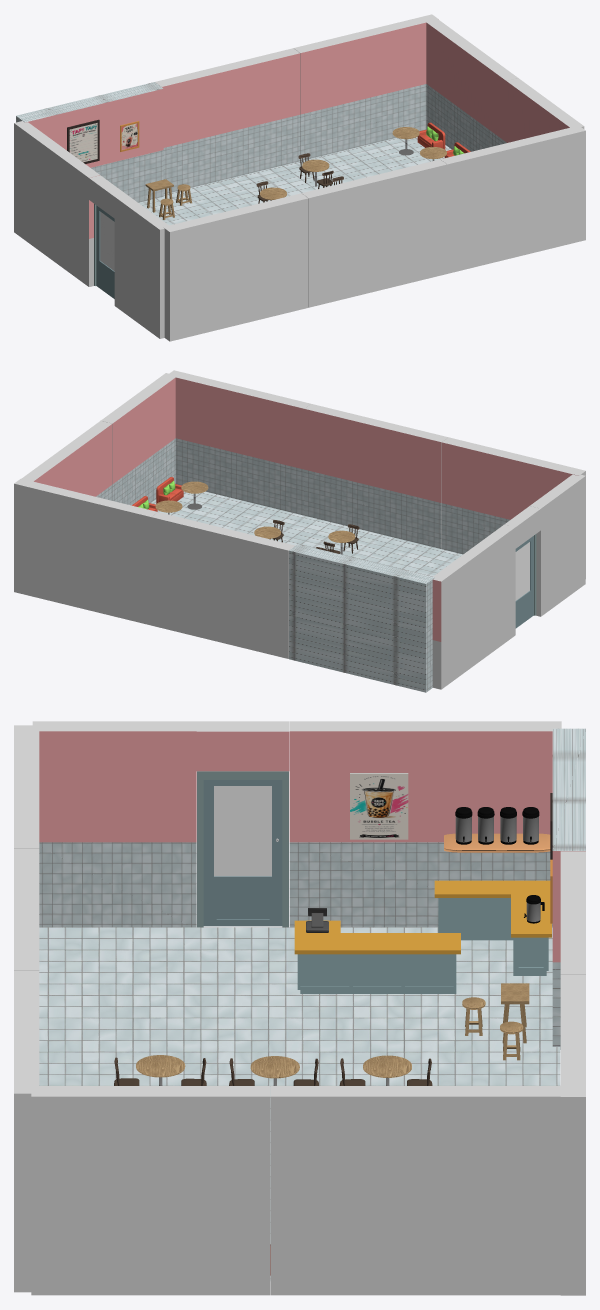
Rendered from TAPI_TAPI_Shop.min.glb.
The picture shows the model from 3 angles, top to bottom: view 1: azimuth 30°, elevation 25°; view 2: azimuth 150°, elevation 25°; view 3: azimuth 270°, elevation 25°; orthographic projection. The views are drawn at different scales.
Parts seen in each view (by area): view 1: Wall_08, Wall_07, Wall_03, Wall_02, Wall_04, Wall_10, Wall_05, Wall_01, Floor, Wall_09, Wall_06, Poster_Menu (+4 smaller); view 2: Wall_01, Wall_04, Wall_02, Wall_07, Wall_03, Wall_10, Wall_08, Floor, Wall_06, Wall_09, Wall_05, Wall_11 (+3 smaller); view 3: Floor, Wall_05, Wall_06, Wall_10, Wall_09, Counter_Side, Wall_04, Counter_Main, Wall_03, Door_Panel, Wall_01, Door_Glass (+11 smaller).
Part boxes in pixels (left/top/right/bottom): Wall_08: left=163, top=193, right=308, bottom=341; Wall_07: left=301, top=159, right=447, bottom=307; Wall_03: left=440, top=125, right=585, bottom=273; Wall_02: left=155, top=48, right=300, bottom=194; Wall_04: left=293, top=14, right=438, bottom=160; Wall_10: left=14, top=121, right=99, bottom=286; Wall_05: left=426, top=19, right=517, bottom=151; Wall_01: left=16, top=82, right=163, bottom=202; Floor: left=139, top=137, right=451, bottom=225; Wall_09: left=114, top=194, right=168, bottom=338; Wall_06: left=506, top=78, right=584, bottom=142; Poster_Menu: left=69, top=123, right=97, bottom=162; Wall_01: left=289, top=544, right=434, bottom=692; Wall_04: left=14, top=478, right=157, bottom=625; Wall_02: left=151, top=512, right=295, bottom=658; Wall_07: left=304, top=404, right=448, bottom=548; Wall_03: left=167, top=370, right=310, bottom=515; Wall_10: left=432, top=524, right=515, bottom=689; Wall_08: left=442, top=437, right=585, bottom=578; Floor: left=151, top=491, right=462, bottom=576; Wall_06: left=101, top=373, right=176, bottom=505; Wall_09: left=530, top=474, right=585, bottom=616; Wall_05: left=22, top=421, right=112, bottom=500; Wall_11: left=504, top=506, right=540, bottom=548; Floor: left=39, top=927, right=560, bottom=1280; Wall_05: left=271, top=1086, right=561, bottom=1295; Wall_06: left=31, top=1086, right=270, bottom=1295; Wall_10: left=289, top=721, right=561, bottom=927; Wall_09: left=32, top=721, right=196, bottom=927; Counter_Side: left=294, top=920, right=460, bottom=993; Wall_04: left=560, top=974, right=585, bottom=1295; Counter_Main: left=434, top=880, right=551, bottom=975; Wall_03: left=14, top=971, right=39, bottom=1292; Door_Panel: left=203, top=780, right=282, bottom=926; Wall_01: left=552, top=728, right=585, bottom=1049; Door_Glass: left=214, top=786, right=271, bottom=876.
Bounding box in the file's own units: 26.36 × 6.51 × 16.95.
42 materials, 18 textured.
